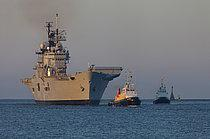MIL_Ship: (20, 15, 122, 105)
